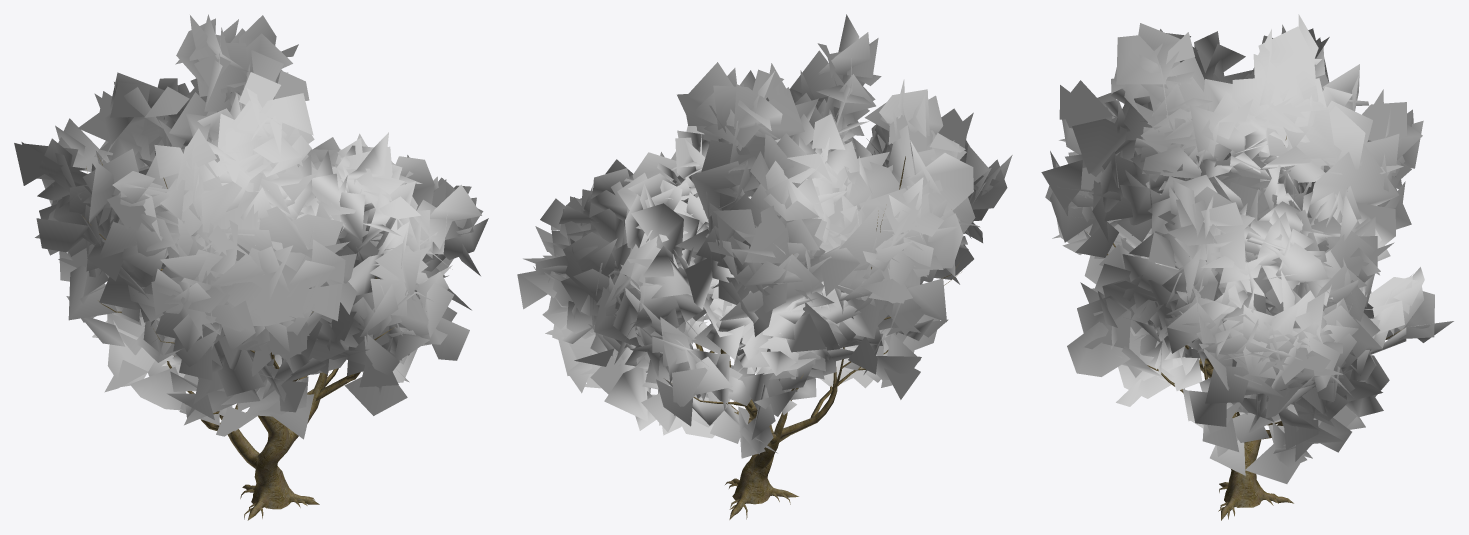
The model's file is CLX_shu_03.FBX.
3 renders of one model, left to right at view 1: azimuth 30°, elevation 25°; view 2: azimuth 150°, elevation 25°; view 3: azimuth 270°, elevation 25°, orthographic. The views are drawn at different scales.
Visible parts, largest first — view 1: CLX_shu_03; view 2: CLX_shu_03; view 3: CLX_shu_03.
Part boxes in pixels (<box>): CLX_shu_03: <box>14,14,488,520</box>; CLX_shu_03: <box>517,14,1012,519</box>; CLX_shu_03: <box>1041,14,1453,520</box>.
Size of the model in its own units: 39.9 by 42.66 by 33.97.
